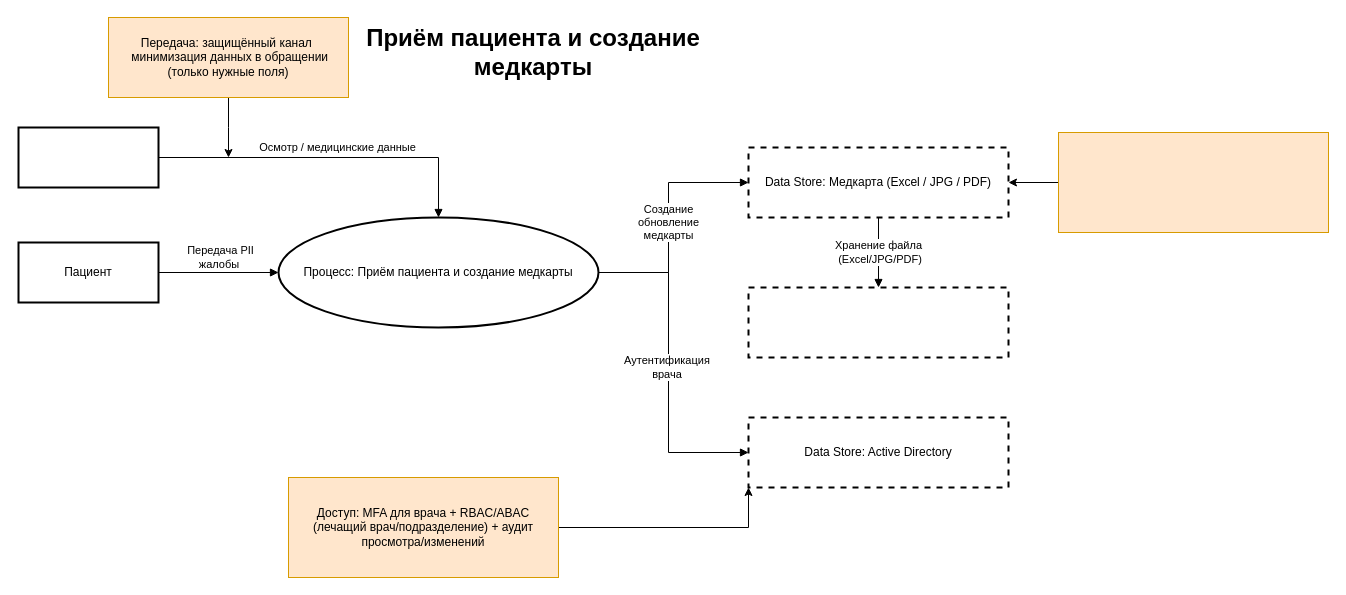
Some shapes in this 1346 by 595 pixel diagram are drawn without their labels. The shapes that lost their labels are listed below. From the top down, each one's centre as x and y in pixels, then its label:
the point at 88,157: Врач
the point at 1193,182: Заменить Excel файлы на БД с разграничением доступа шифрованием
the point at 878,322: Data Store: Файловый сервер
